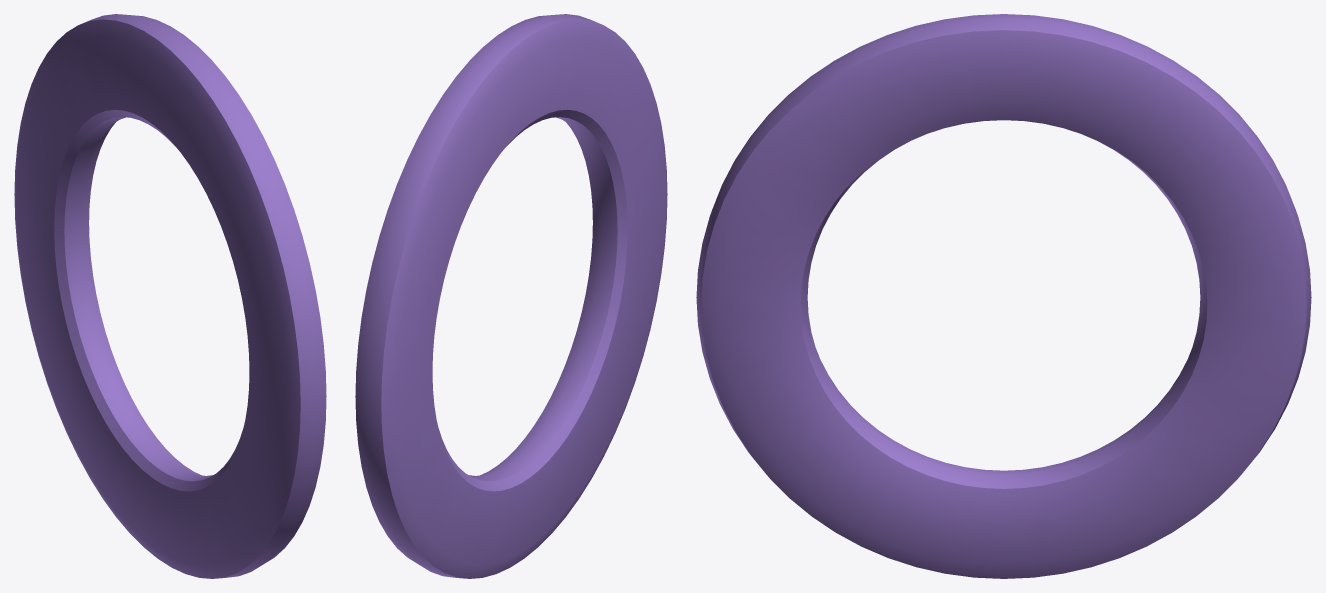
Rendered from ToiletSeat.fbx.
The picture shows the model from 3 angles, left to right: view 1: azimuth 30°, elevation 25°; view 2: azimuth 150°, elevation 25°; view 3: azimuth 270°, elevation 25°; orthographic projection. The views are drawn at different scales.
Visible parts, largest first — view 1: ToiletSeat; view 2: ToiletSeat; view 3: ToiletSeat.
Boxes of the visible parts, x1,y1,x2,y2 form: ToiletSeat: (14,14,326,578); ToiletSeat: (355,14,667,578); ToiletSeat: (696,14,1311,578).
Size of the model in its own units: 1 by 13 by 13.
